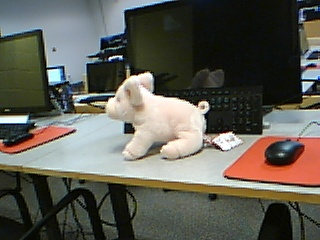piggy: (105, 70, 210, 162)
